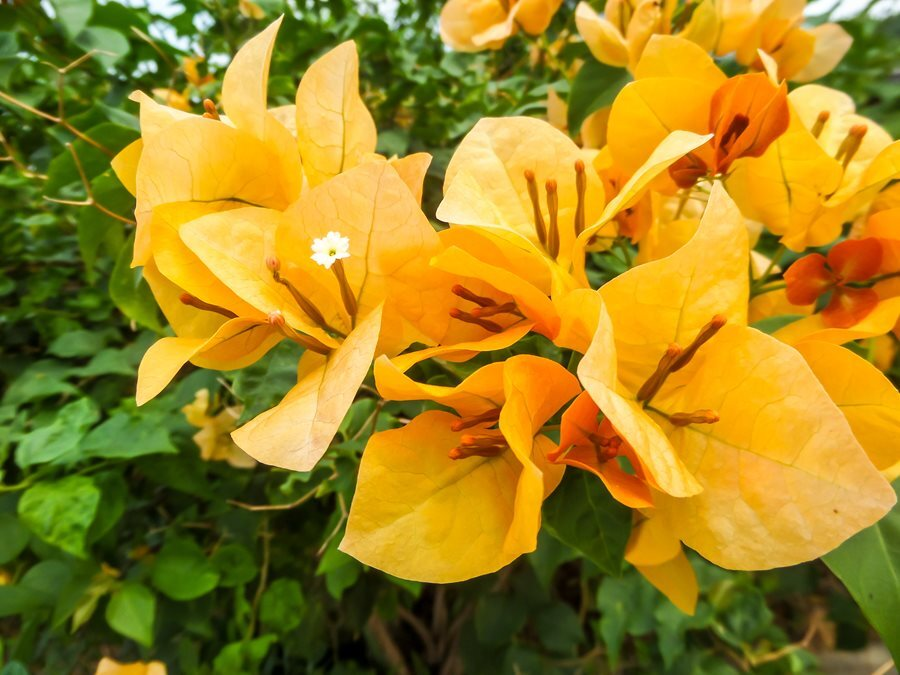bougainvillea: (581, 187, 854, 572), (194, 168, 446, 440), (355, 355, 562, 572), (434, 118, 614, 290)
